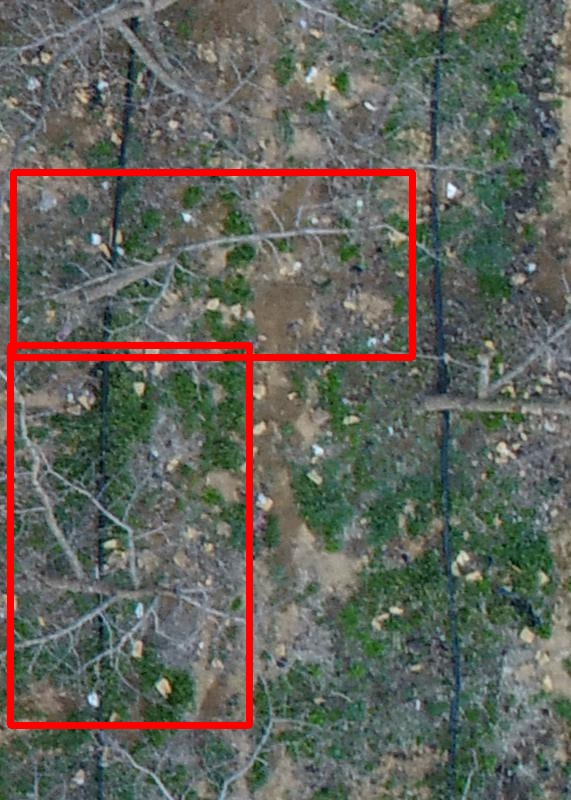apple: (10, 345, 249, 725), (13, 172, 412, 357)
